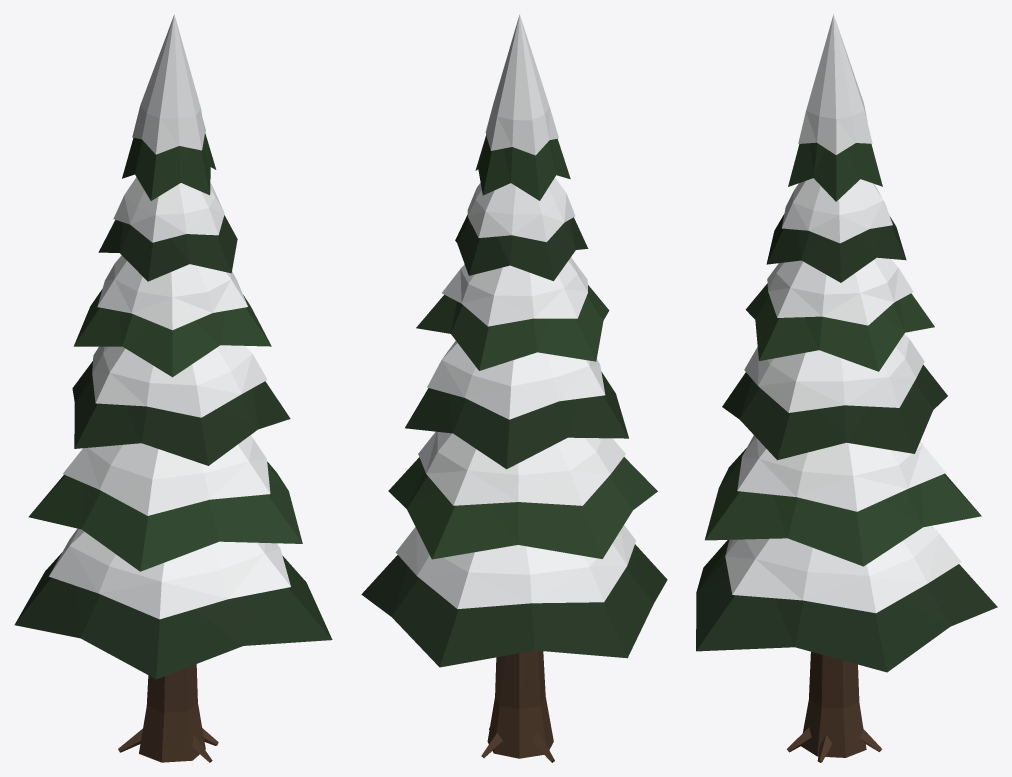
Rendered from Snow_PineTall.fbx.
The picture shows the model from 3 angles, left to right: view 1: azimuth 30°, elevation 25°; view 2: azimuth 150°, elevation 25°; view 3: azimuth 270°, elevation 25°; orthographic projection.
Parts seen in each view (by area): view 1: Snow, Needles, Needles2, Trunk; view 2: Snow, Needles, Needles2, Trunk; view 3: Snow, Needles, Needles2, Trunk.
Part boxes in pixels (x1,y1,x2,y2): Snow: (49, 14, 290, 619); Needles: (14, 215, 332, 679); Needles2: (28, 133, 302, 571); Trunk: (118, 664, 218, 762); Snow: (395, 14, 635, 609); Needles: (361, 215, 667, 667); Needles2: (388, 135, 657, 559); Trunk: (481, 650, 554, 762); Snow: (725, 14, 961, 613); Needles: (696, 214, 997, 672); Needles2: (705, 142, 981, 566); Trunk: (787, 652, 881, 762).
Size of the model in its own units: 8.46 by 22.28 by 8.33.
